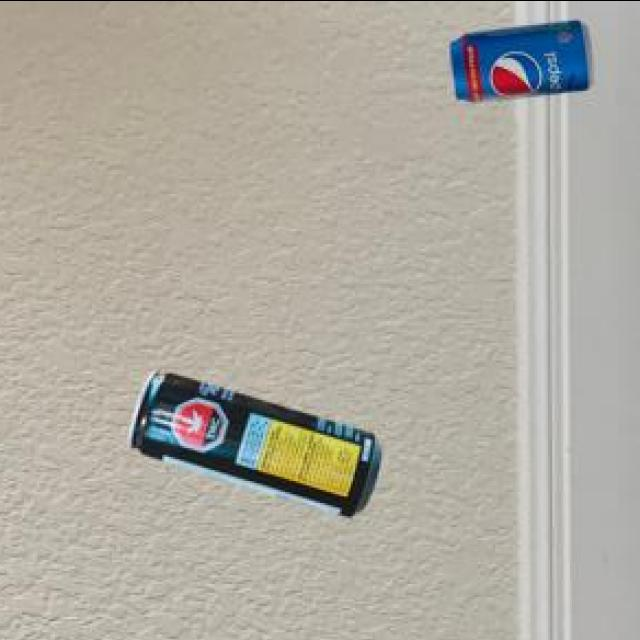logam: (126, 374, 378, 518), (446, 23, 588, 102)
